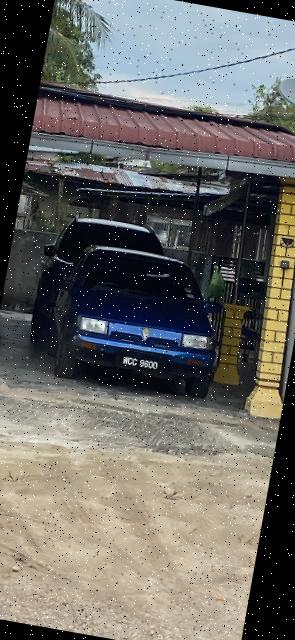License_Plate: (116, 352, 164, 375)
car: (43, 241, 240, 407)
